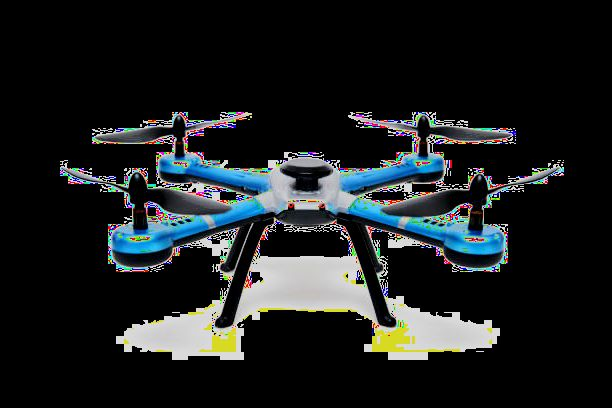Drone: (54, 97, 559, 364)
